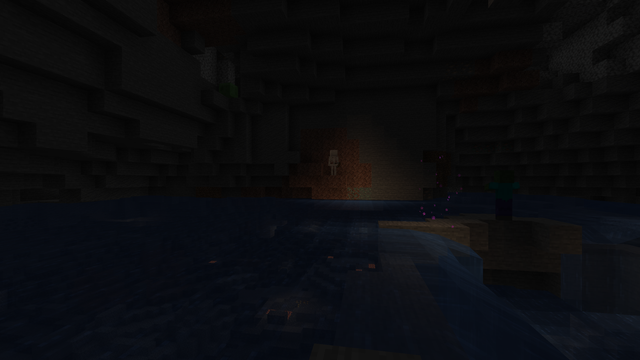slimes: (218, 81, 237, 97)
squelettes: (329, 149, 337, 174)
zombies: (491, 171, 515, 221)
